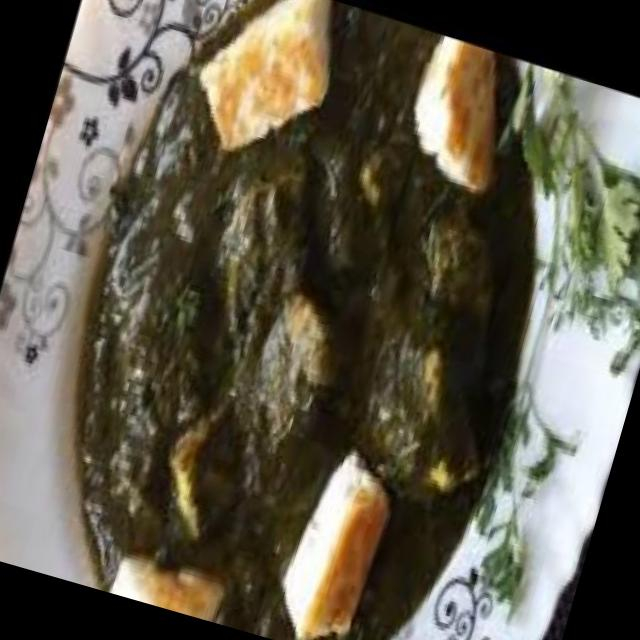palak_paneer: (4, 0, 609, 640)
